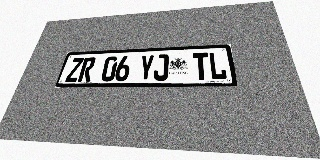0: (100, 56, 118, 81)
6: (114, 56, 132, 81)
J: (153, 54, 169, 81)
L: (208, 52, 228, 80)
R: (77, 57, 96, 82)
T: (193, 52, 210, 80)
Y: (138, 55, 155, 81)
Z: (65, 58, 84, 82)
